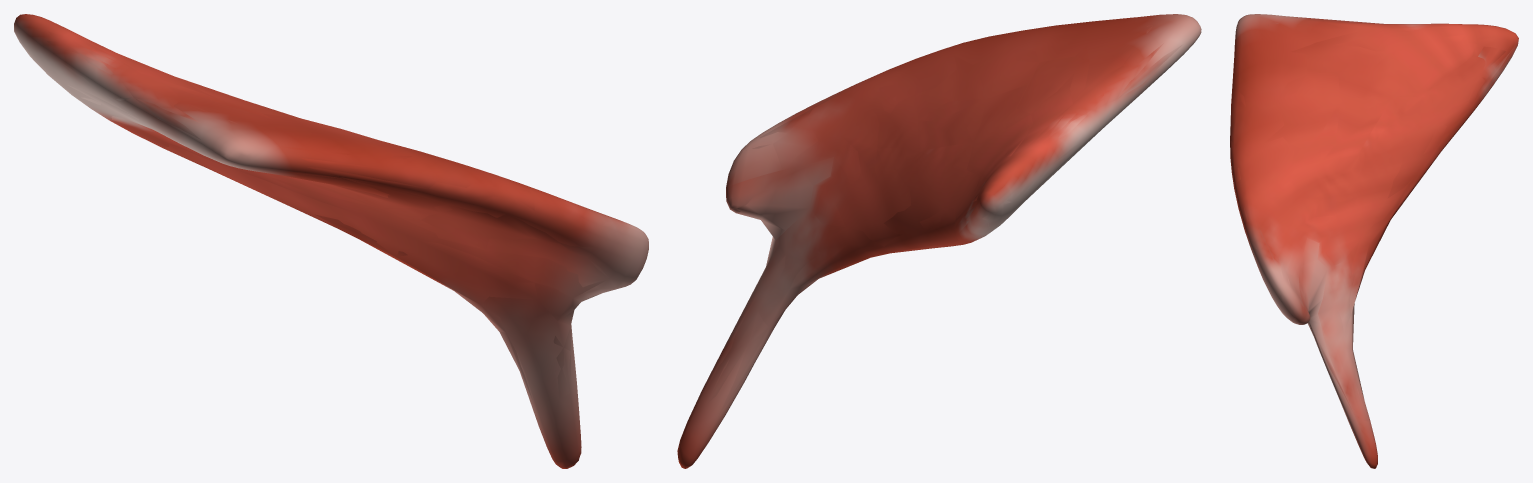
File: L pectoralis superficialis.fbx
The picture shows the model from 3 angles, left to right: view 1: azimuth 30°, elevation 25°; view 2: azimuth 150°, elevation 25°; view 3: azimuth 270°, elevation 25°; orthographic projection. The views are drawn at different scales.
Parts seen in each view (by area): view 1: L pectoralis superficialis, L pectoralis superficialis low; view 2: L pectoralis superficialis, L pectoralis superficialis low; view 3: L pectoralis superficialis, L pectoralis superficialis low.
Boxes of the visible parts, x1,y1,x2,y2 form: L pectoralis superficialis: (14,14,648,468); L pectoralis superficialis low: (15,15,636,399); L pectoralis superficialis: (677,14,1201,468); L pectoralis superficialis low: (681,25,1183,468); L pectoralis superficialis: (1230,14,1518,468); L pectoralis superficialis low: (1230,16,1514,464).
Size of the model in its own units: 8.66 by 9.08 by 7.4.
